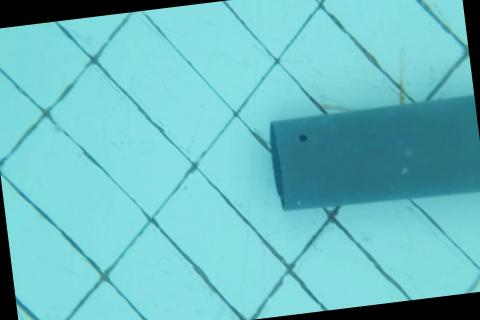kebocoran: (298, 132, 309, 143)
